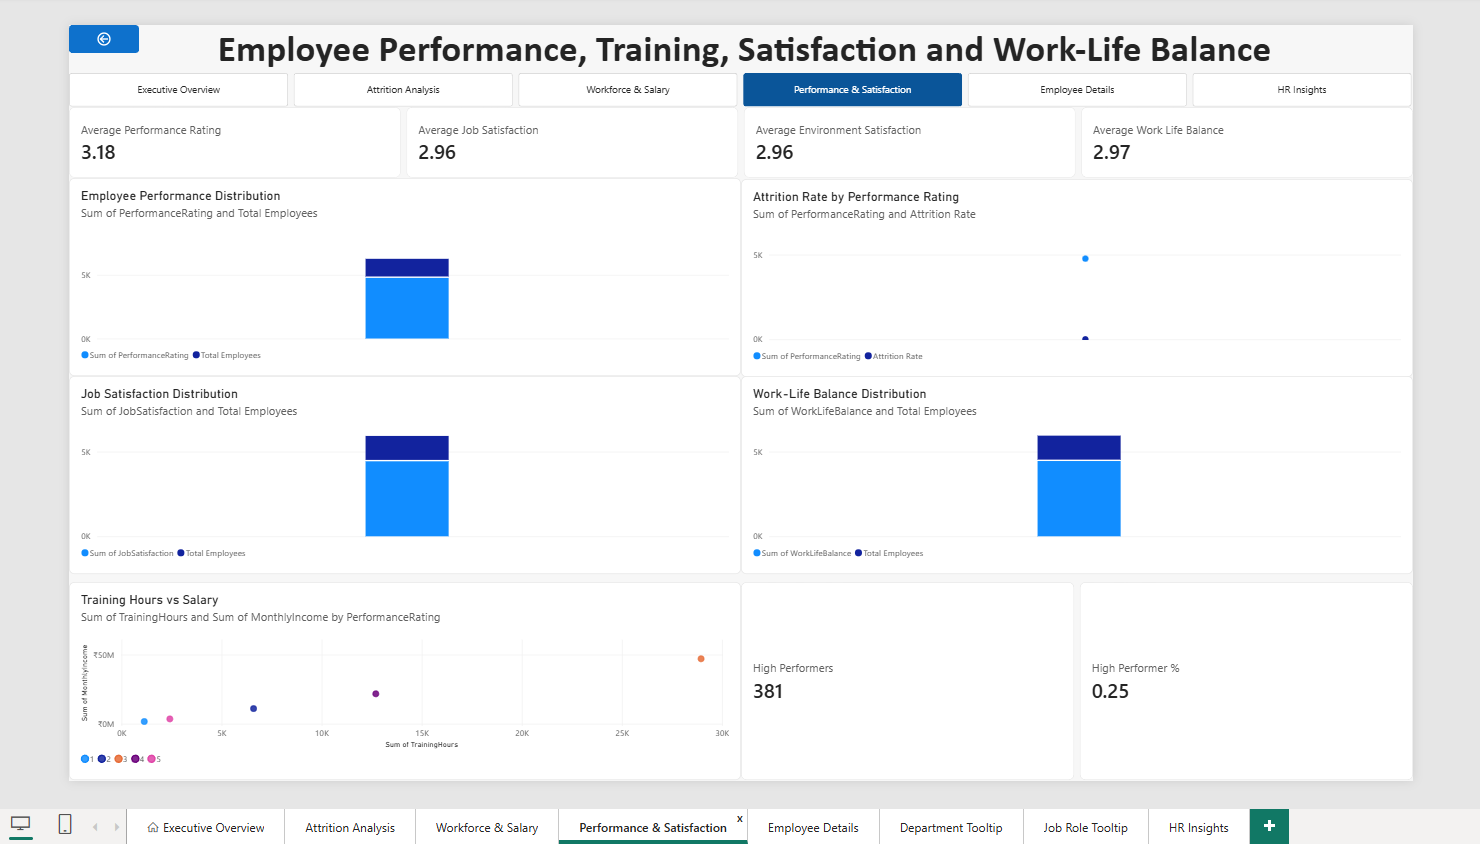

What the dashboard file says about the page in this screenshot:
{"tool":"powerbi","page":{"name":"Performance & Satisfaction","canvas":[1920,1080],"ordinal":3},"visuals":[{"type":"textbox","box":[10,0,1910,68.3],"z":0},{"type":"cardVisual","fields":{"Data":["FactEmployee.Average Performance Rating","FactEmployee.Average Job Satisfaction","FactEmployee.Average Environment Satisfaction","FactEmployee.Average Work Life Balance"]},"box":[0,116.7,1920,101.7],"z":1000},{"type":"columnChart","title":"Employee Performance Distribution","fields":{"Y":["Sum(FactEmployee.PerformanceRating)","FactEmployee.Total Employees"]},"box":[0,218.3,960,283.3],"z":2000},{"type":"lineChart","title":"Attrition Rate by Performance Rating","fields":{"Y":["Sum(FactEmployee.PerformanceRating)","FactEmployee.Attrition Rate"]},"box":[960,220,960,283],"z":3000},{"type":"columnChart","title":"Job Satisfaction Distribution","fields":{"Y":["Sum(FactEmployee.JobSatisfaction)","FactEmployee.Total Employees"]},"box":[0,501.7,960,283],"z":4000},{"type":"columnChart","title":"Work-Life Balance Distribution","fields":{"Y":["Sum(FactEmployee.WorkLifeBalance)","FactEmployee.Total Employees"]},"box":[960,501.7,960,283],"z":5000},{"type":"scatterChart","title":"Training Hours vs Salary","fields":{"Series":["FactEmployee.PerformanceRating"],"X":["Sum(FactEmployee.TrainingHours)"],"Y":["Sum(FactEmployee.MonthlyIncome)"]},"box":[0,795,960,283],"z":6000},{"type":"cardVisual","fields":{"Data":["FactEmployee.High Performers","FactEmployee.High Performer %"]},"box":[960,795,960,283],"z":7000},{"type":"pageNavigator","box":[0,68.6,1920,48.6],"z":8000},{"type":"actionButton","box":[0,0,100,40],"z":9000}]}

Visuals, with their boxes on the page's 1920x1080 design canvas (x1, y1, x2, y2). These are canvas units, not pixel positions in the 1480x844 screenshot, which may show the page scaled, cropped or inside an application window:
textbox: (x1=10, y1=0, x2=1920, y2=68)
cardVisual - FactEmployee.Average Performance Rating x FactEmployee.Average Job Satisfaction: (x1=0, y1=117, x2=1920, y2=218)
"Employee Performance Distribution" columnChart: (x1=0, y1=218, x2=960, y2=502)
"Attrition Rate by Performance Rating" lineChart: (x1=960, y1=220, x2=1920, y2=503)
"Job Satisfaction Distribution" columnChart: (x1=0, y1=502, x2=960, y2=785)
"Work-Life Balance Distribution" columnChart: (x1=960, y1=502, x2=1920, y2=785)
"Training Hours vs Salary" scatterChart: (x1=0, y1=795, x2=960, y2=1078)
cardVisual - FactEmployee.High Performers x FactEmployee.High Performer %: (x1=960, y1=795, x2=1920, y2=1078)
pageNavigator: (x1=0, y1=69, x2=1920, y2=117)
actionButton: (x1=0, y1=0, x2=100, y2=40)
